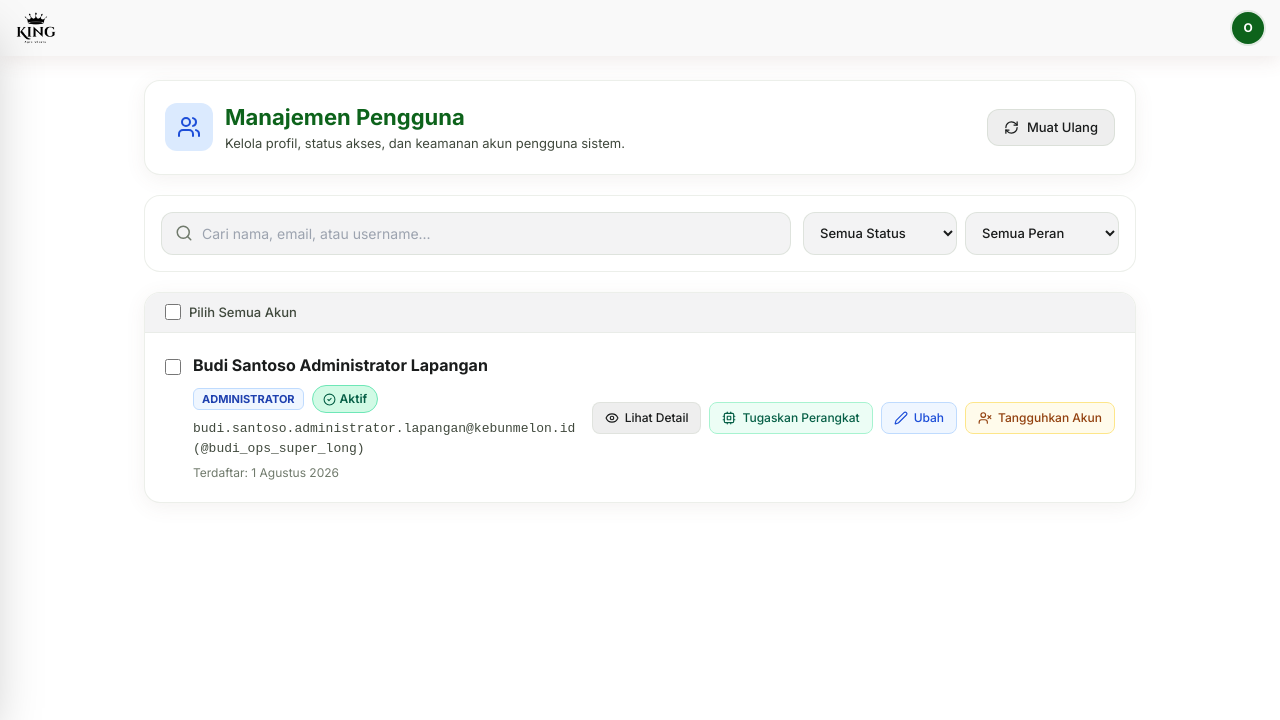
Test case: User Management Mobile Responsive Layout › 4. renders User Detail modal with responsive layout and text wrapping
The width and height of the screenshot is (1280, 720).
Expected: the heading "Budi Santoso Administrator Lapangan" is shown, [193,353,488,377]
Step 1. Click the button "Lihat Detail" → (646, 418), box [592,402,701,434]
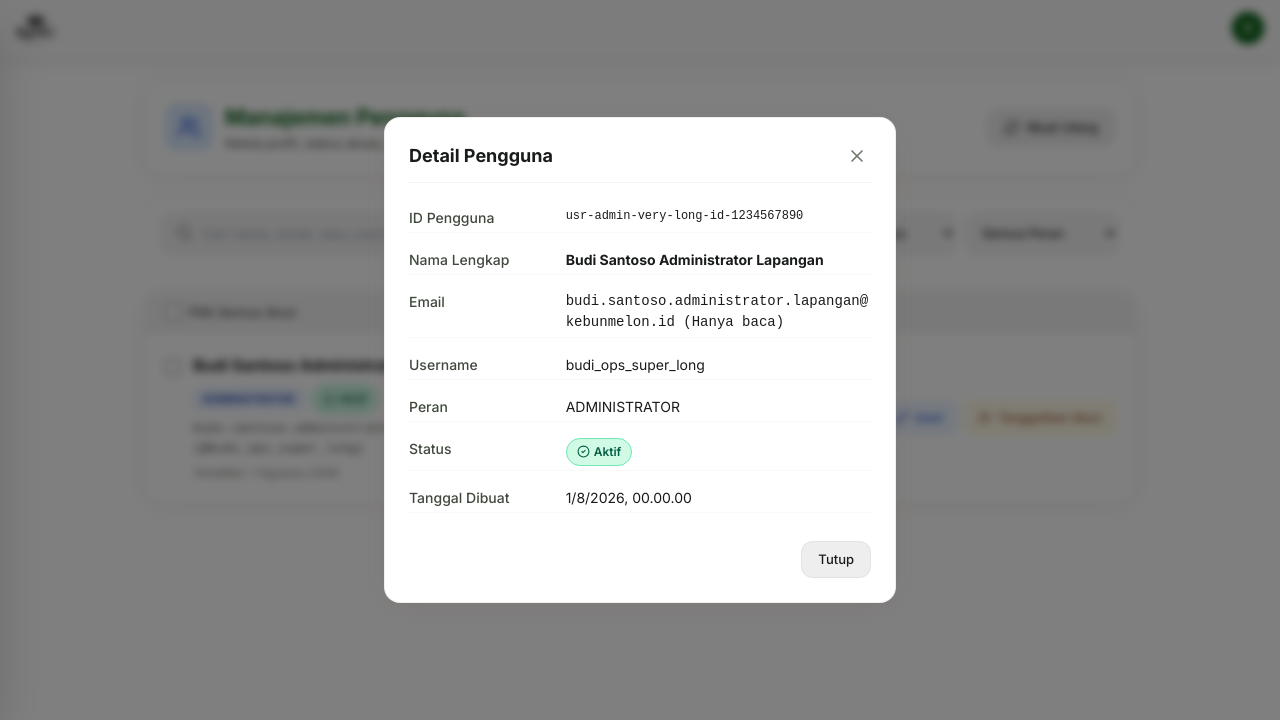
Expected: the heading "Detail Pengguna" is shown, [409,142,553,169]
